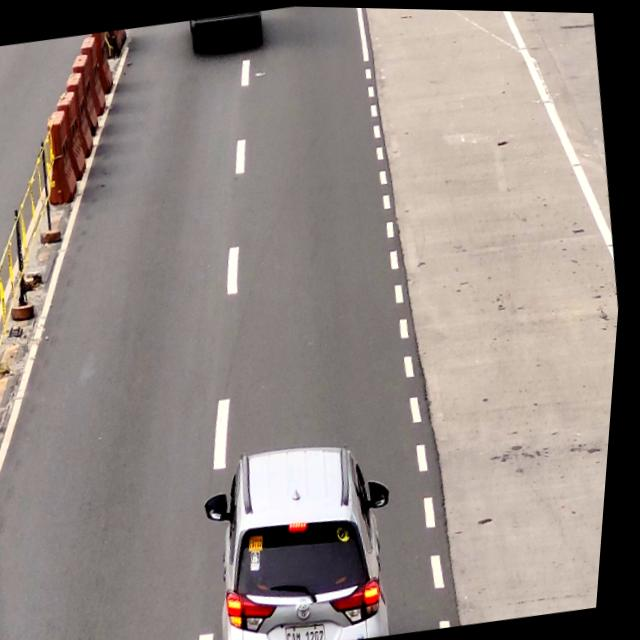Car: (206, 432, 414, 640)
License-Plate: (293, 617, 336, 640)
